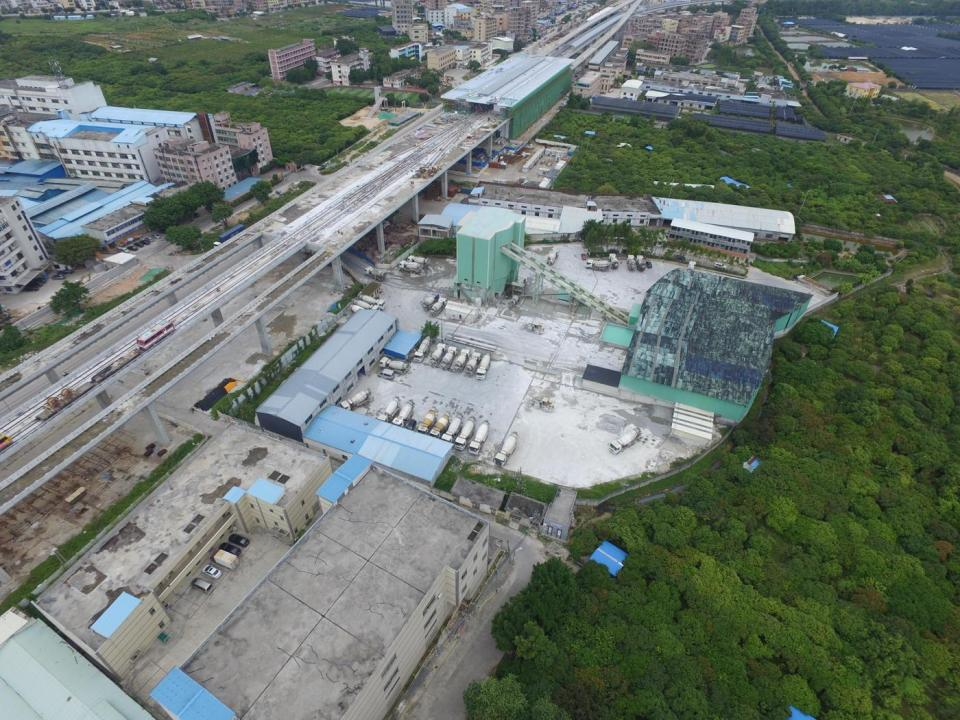car: (202, 563, 224, 580), (217, 542, 241, 557), (228, 532, 250, 548), (58, 268, 74, 276), (713, 262, 727, 270), (22, 285, 38, 292), (27, 280, 44, 286), (33, 277, 47, 283), (52, 274, 65, 280), (621, 248, 632, 254), (139, 238, 150, 244), (127, 245, 138, 251), (676, 254, 686, 260), (190, 212, 200, 218), (133, 242, 143, 248), (151, 233, 161, 239), (580, 252, 587, 260), (609, 248, 620, 253), (317, 166, 326, 171), (646, 261, 652, 268), (146, 237, 154, 242), (276, 190, 283, 195)
truck: (608, 427, 642, 455), (453, 414, 477, 451), (494, 431, 518, 467), (440, 412, 464, 447), (340, 387, 372, 413), (468, 419, 490, 455), (377, 393, 401, 424), (429, 411, 451, 443), (391, 398, 414, 428), (379, 355, 410, 377), (417, 405, 437, 437), (211, 549, 240, 571), (414, 333, 432, 362), (352, 298, 380, 316), (349, 303, 378, 320), (477, 351, 493, 381), (356, 294, 385, 310), (418, 291, 440, 311), (440, 346, 458, 370), (585, 258, 612, 274), (466, 351, 484, 374), (430, 342, 446, 367), (429, 296, 448, 317), (407, 254, 430, 271), (454, 348, 470, 372), (364, 266, 386, 282), (398, 260, 423, 274), (545, 249, 560, 265), (626, 253, 636, 272), (608, 253, 619, 270), (636, 254, 645, 272), (557, 26, 563, 33), (581, 13, 585, 19)
van: (189, 576, 215, 594), (376, 368, 395, 380), (407, 418, 416, 431), (117, 246, 130, 254)
